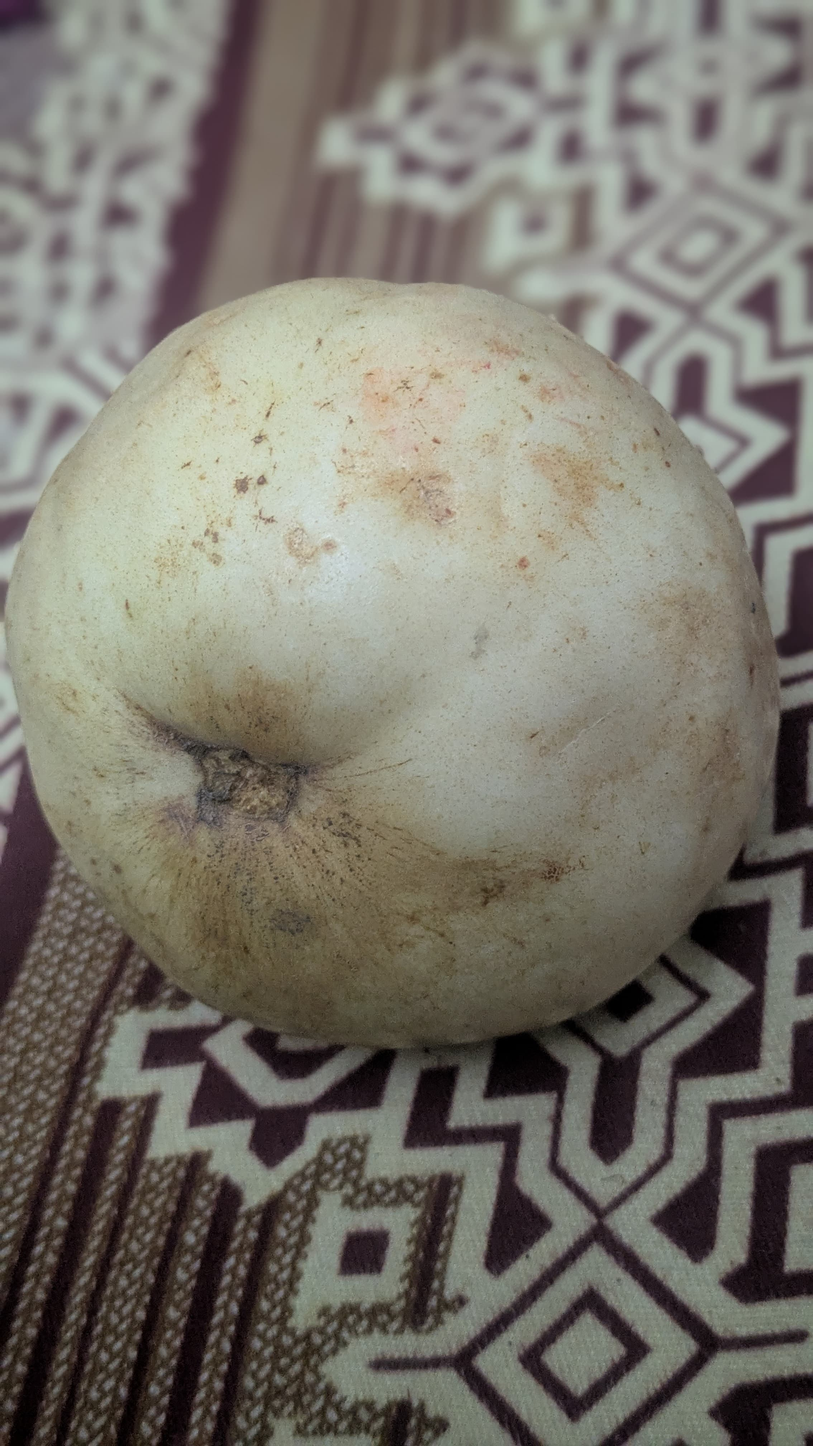guava: (125, 132, 688, 1107)
